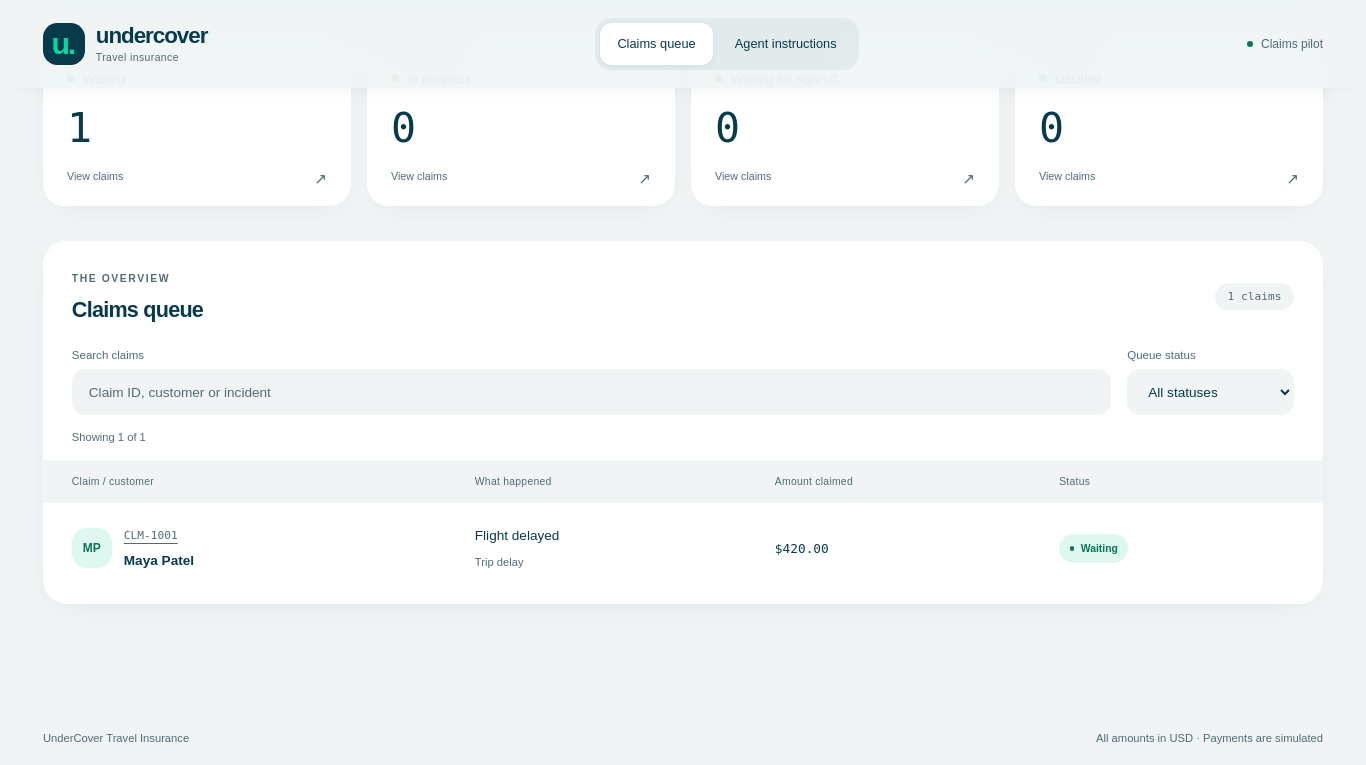
Test case: shows the queue and navigates to full claim details
The width and height of the screenshot is (1366, 765).
(page scrolled)
Expected: the text "Maya Patel" is shown, [124,551,194,572]
Step 1. Click the link "CLM-1001" → (151, 536), box [124,529,178,542]
(page scrolled)
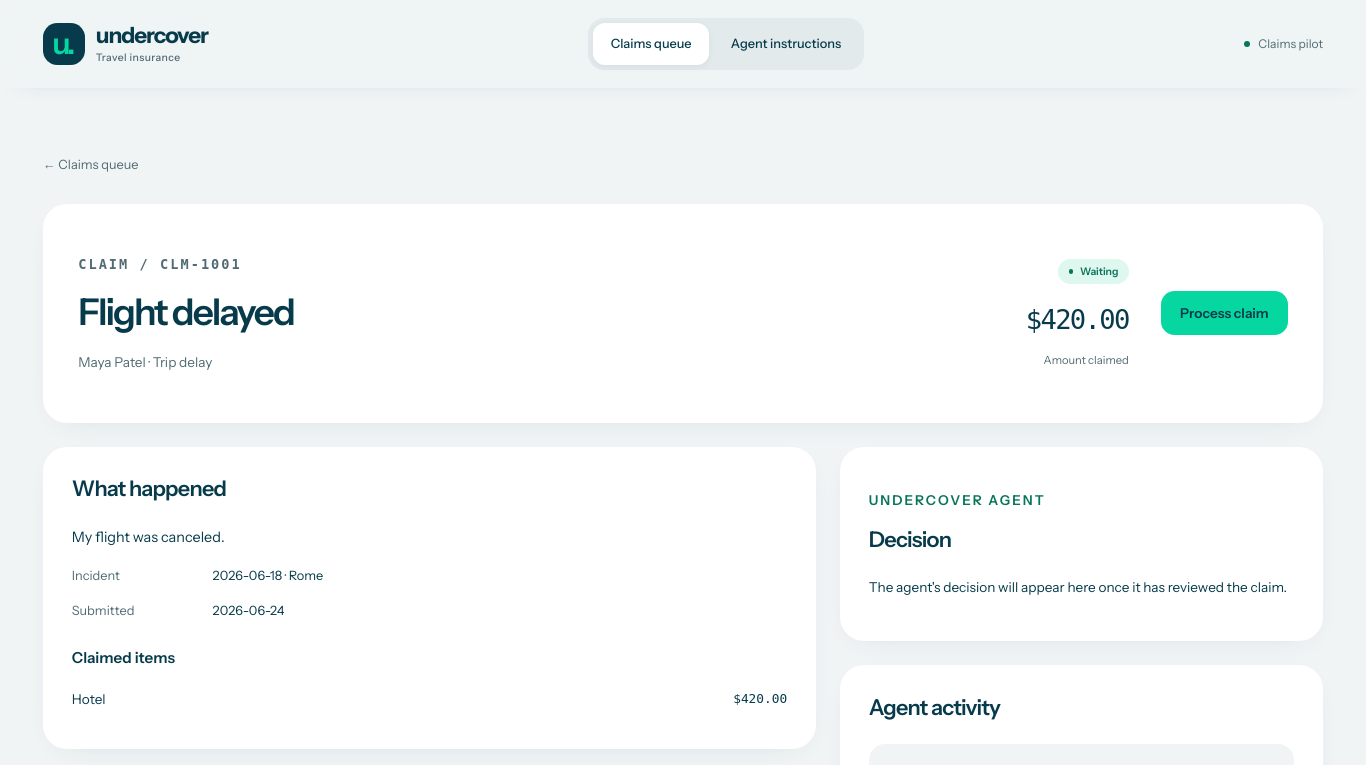
Result: the text "My flight was canceled." is shown at [72,528,225,546]
